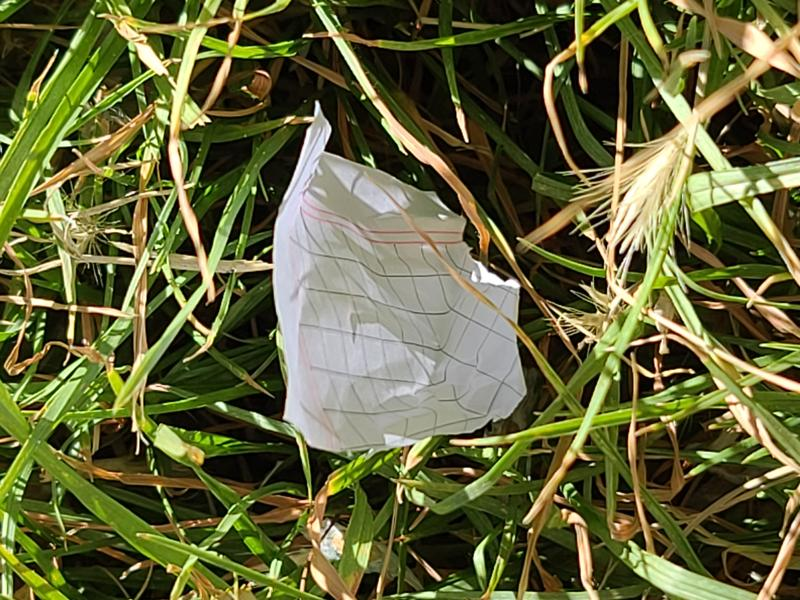papel: (272, 153, 529, 455)
